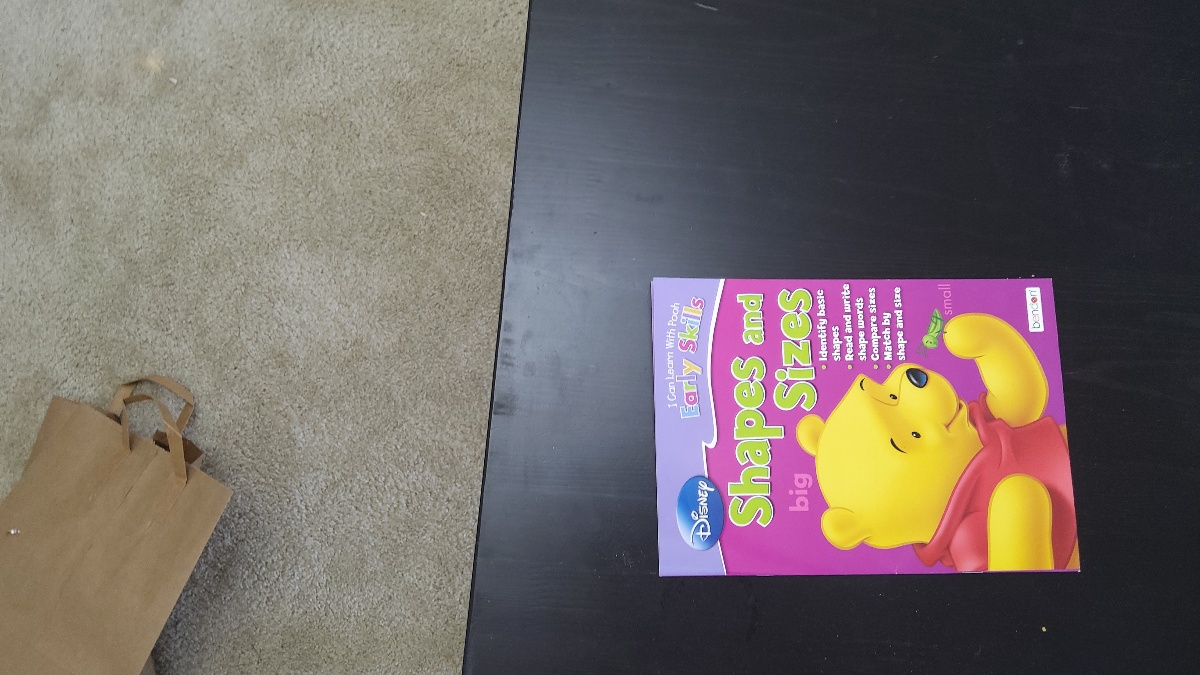book: (652, 278, 1069, 572)
